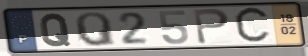2: (118, 11, 151, 46)
5: (156, 9, 191, 46)
C: (232, 5, 273, 46)
P: (192, 7, 232, 46)
Q: (73, 11, 118, 48), (39, 12, 73, 48)
